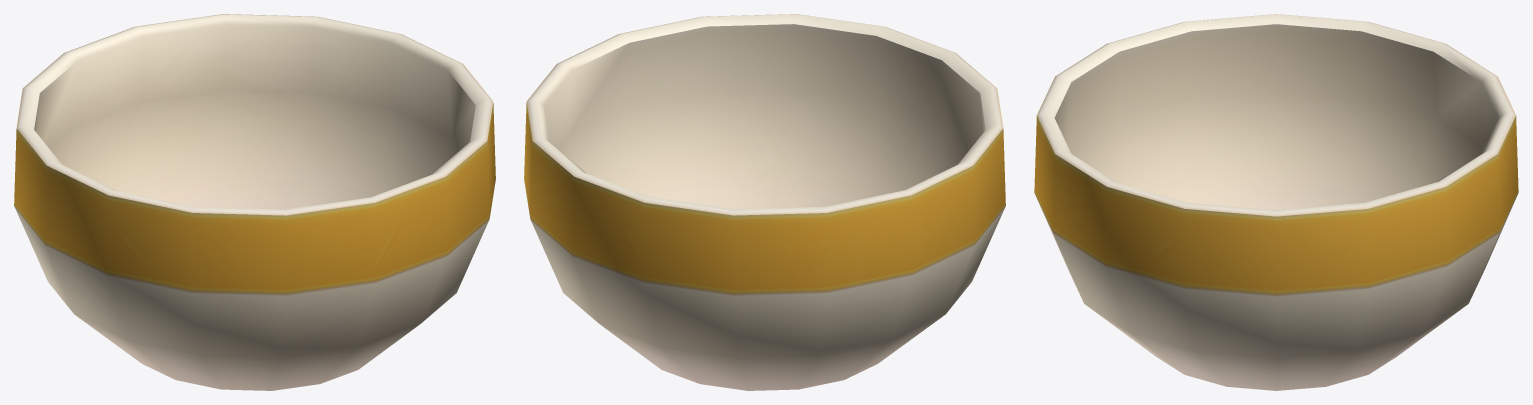
File: SE_Bowl_01.fbx
3 views of the same model, side by side, from view 1: azimuth 30°, elevation 25°; view 2: azimuth 150°, elevation 25°; view 3: azimuth 270°, elevation 25° (orthographic).
Visible parts, largest first — view 1: SE_Bowl_01; view 2: SE_Bowl_01; view 3: SE_Bowl_01.
Part boxes in pixels (x1,y1,x2,y2): SE_Bowl_01: (14,14,495,390); SE_Bowl_01: (524,14,1005,390); SE_Bowl_01: (1034,14,1518,390).
Size of the model in its own units: 1.3 by 0.6778 by 1.3.
